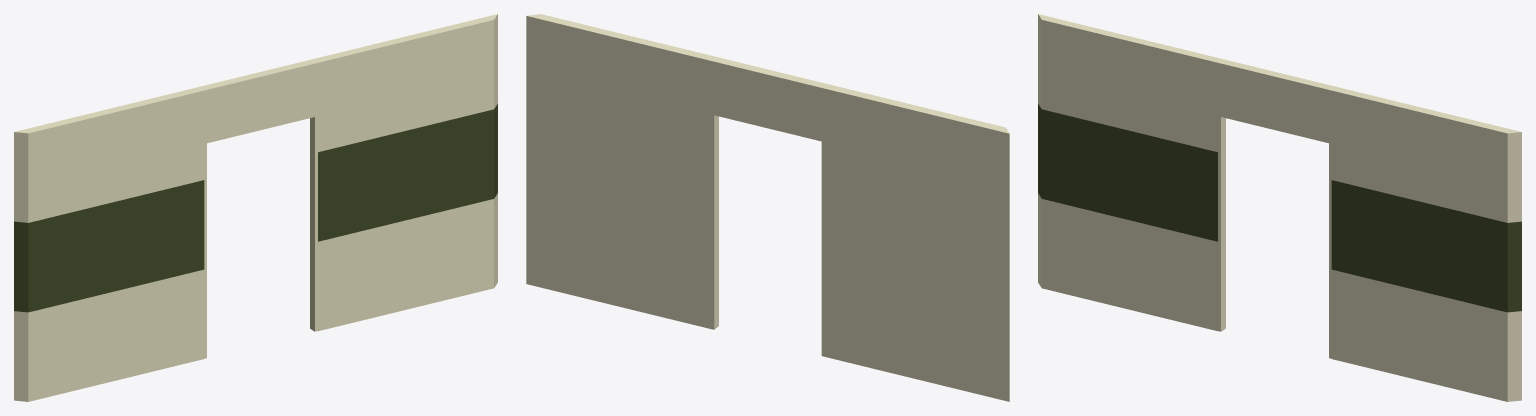
Rendered from InteriorWall_45Door_ExportPrep.gltf.
3 renders of one model, left to right at view 1: azimuth 30°, elevation 25°; view 2: azimuth 150°, elevation 25°; view 3: azimuth 330°, elevation 25°, orthographic.
Visible parts, largest first — view 1: InteriorWall_45Door; view 2: InteriorWall_45Door; view 3: InteriorWall_45Door.
Part boxes in pixels (box(x1,y1,x2,y2)): InteriorWall_45Door: box(14, 14, 497, 401); InteriorWall_45Door: box(526, 14, 1009, 401); InteriorWall_45Door: box(1038, 14, 1521, 401).
Size of the model in its own units: 5.66 by 3 by 0.1062.
